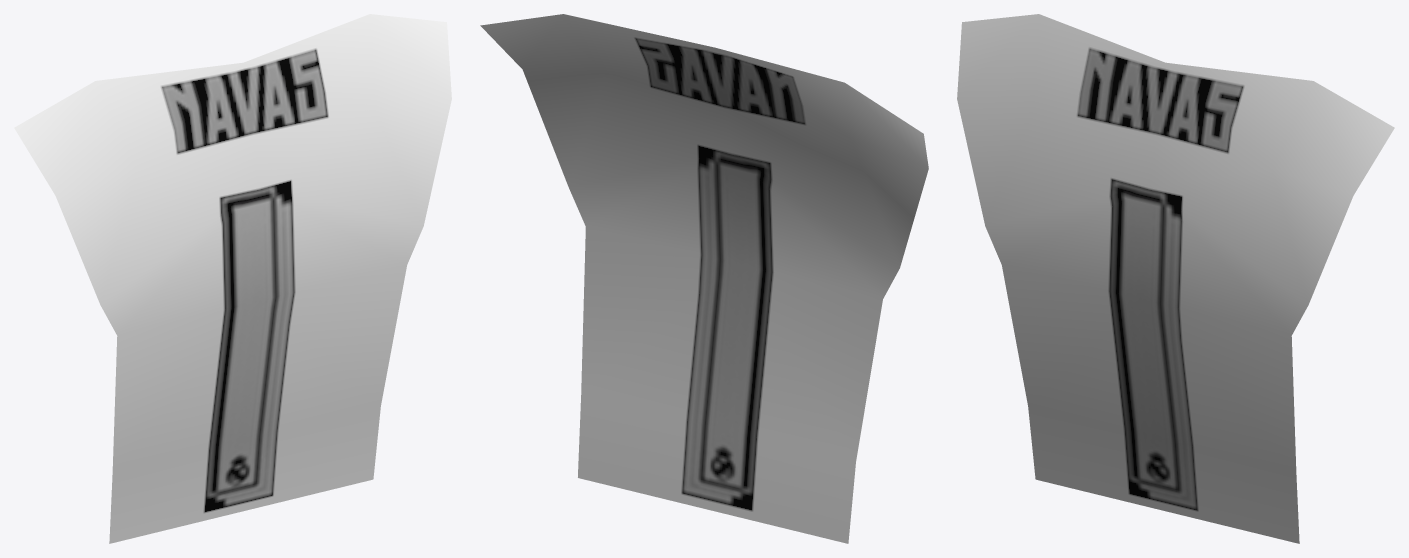
Rendered from 01_NAVAS.FBX.
3 views of the same model, side by side, from view 1: azimuth 30°, elevation 25°; view 2: azimuth 150°, elevation 25°; view 3: azimuth 330°, elevation 25° (orthographic). The views are drawn at different scales.
Parts seen in each view (by area): view 1: NAVAS_01; view 2: NAVAS_01; view 3: NAVAS_01.
Part boxes in pixels (x1,y1,x2,y2): NAVAS_01: (14,14,451,543); NAVAS_01: (480,14,928,543); NAVAS_01: (957,14,1394,543).
Bounding box in the file's own units: 31.82 × 32.16 × 4.03.
